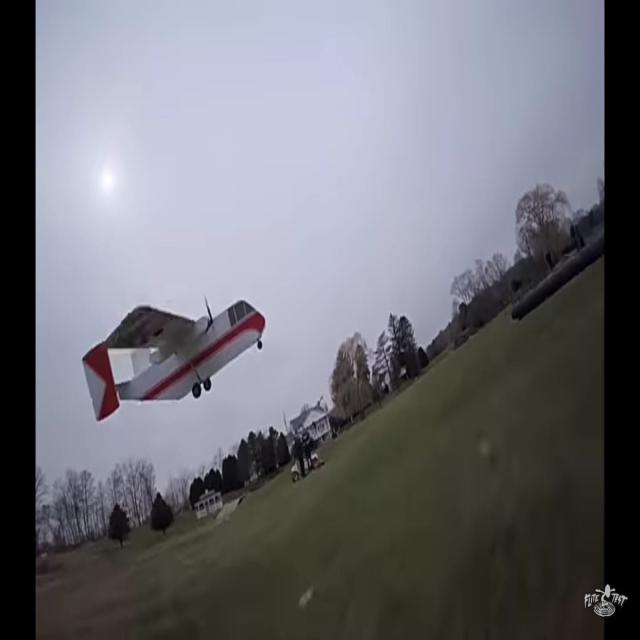iha: (80, 293, 266, 427)
